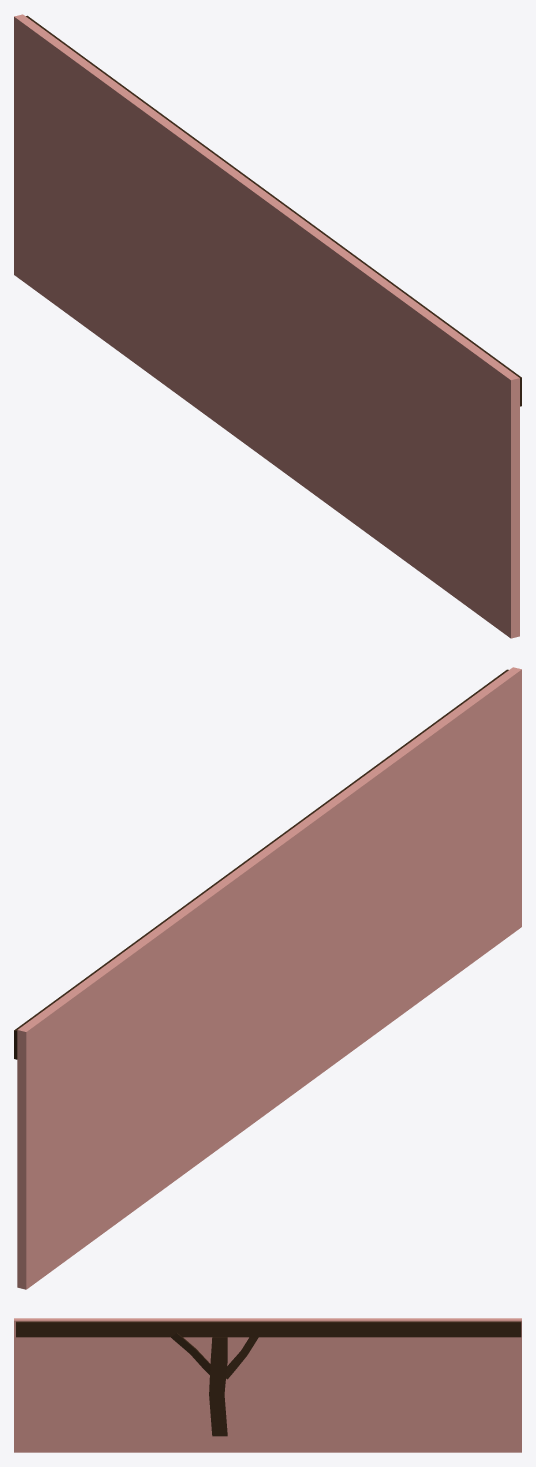
The model's file is leftwall.fbx.
3 renders of one model, top to bottom at view 1: azimuth 30°, elevation 25°; view 2: azimuth 150°, elevation 25°; view 3: azimuth 270°, elevation 25°, orthographic. The views are drawn at different scales.
Visible parts, largest first — view 1: Cube.002, Cube.002_cell.006, Cube.002_cell.004, Cube.002_cell.005, Cube.002_cell.007, Cube.007, Cube.002_cell.003; view 2: Cube.002, Cube.002_cell.004, Cube.002_cell.006, Cube.002_cell.005, Cube.002_cell.007, Cube.007, Cube.002_cell.003; view 3: Cube.002, Cube.002_cell, Cube.002_cell.003, Cube.007, Cube.002_cell.002, Cube.016, Cube.002_cell.007, Cube.018, Cube.017.
Boxes of the visible parts, left/top/right/bottom form: Cube.002: left=14, top=17, right=519, bottom=638; Cube.002_cell.006: left=262, top=198, right=515, bottom=509; Cube.002_cell.004: left=14, top=146, right=262, bottom=456; Cube.002_cell.005: left=262, top=385, right=515, bottom=638; Cube.002_cell.007: left=14, top=15, right=266, bottom=324; Cube.007: left=26, top=15, right=521, bottom=406; Cube.002_cell.003: left=19, top=14, right=270, bottom=196; Cube.002: left=17, top=667, right=521, bottom=1289; Cube.002_cell.004: left=22, top=980, right=274, bottom=1289; Cube.002_cell.006: left=274, top=669, right=521, bottom=978; Cube.002_cell.005: left=274, top=798, right=521, bottom=1103; Cube.002_cell.007: left=22, top=850, right=274, bottom=1148; Cube.007: left=14, top=669, right=508, bottom=1059; Cube.002_cell.003: left=18, top=848, right=268, bottom=1030; Cube.002: left=14, top=1318, right=521, bottom=1452; Cube.002_cell: left=14, top=1386, right=267, bottom=1452; Cube.002_cell.003: left=268, top=1319, right=521, bottom=1386; Cube.007: left=16, top=1321, right=521, bottom=1337; Cube.002_cell.002: left=268, top=1386, right=521, bottom=1452; Cube.016: left=209, top=1337, right=227, bottom=1436; Cube.002_cell.007: left=268, top=1318, right=521, bottom=1319; Cube.018: left=171, top=1333, right=210, bottom=1374; Cube.017: left=226, top=1336, right=258, bottom=1379.
Size of the model in its own units: 43.76 by 698 by 2435.
